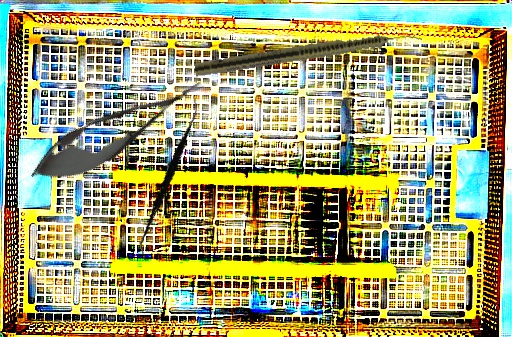Handpiece: (194, 26, 423, 80)
Micro Scissor: (21, 62, 215, 199)
Spatula Surgical: (113, 96, 227, 261)
